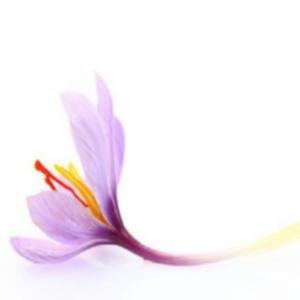Saffron: (9, 74, 183, 268)
